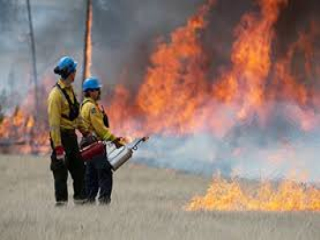fire: (130, 19, 308, 131), (179, 184, 319, 217)
smoke: (159, 133, 310, 179)
